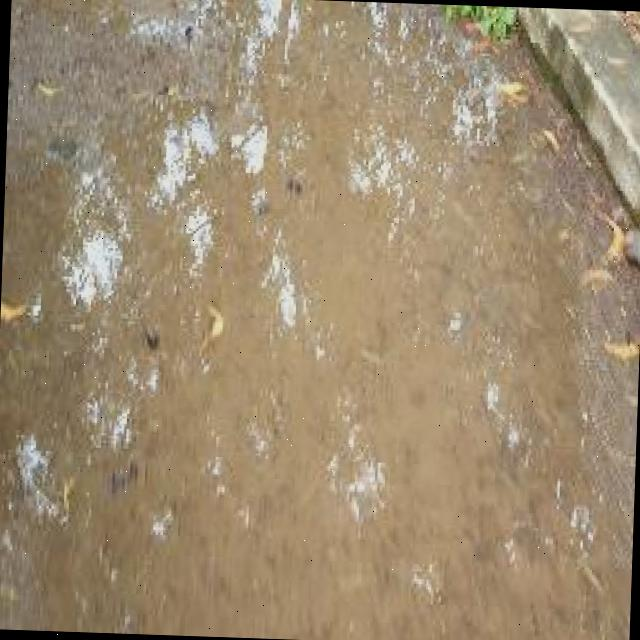stagnation: (31, 90, 521, 640)
